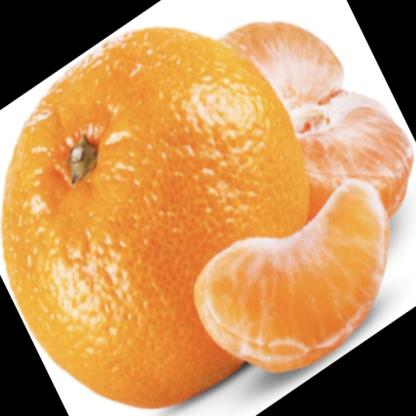fresh: (6, 29, 314, 414)
